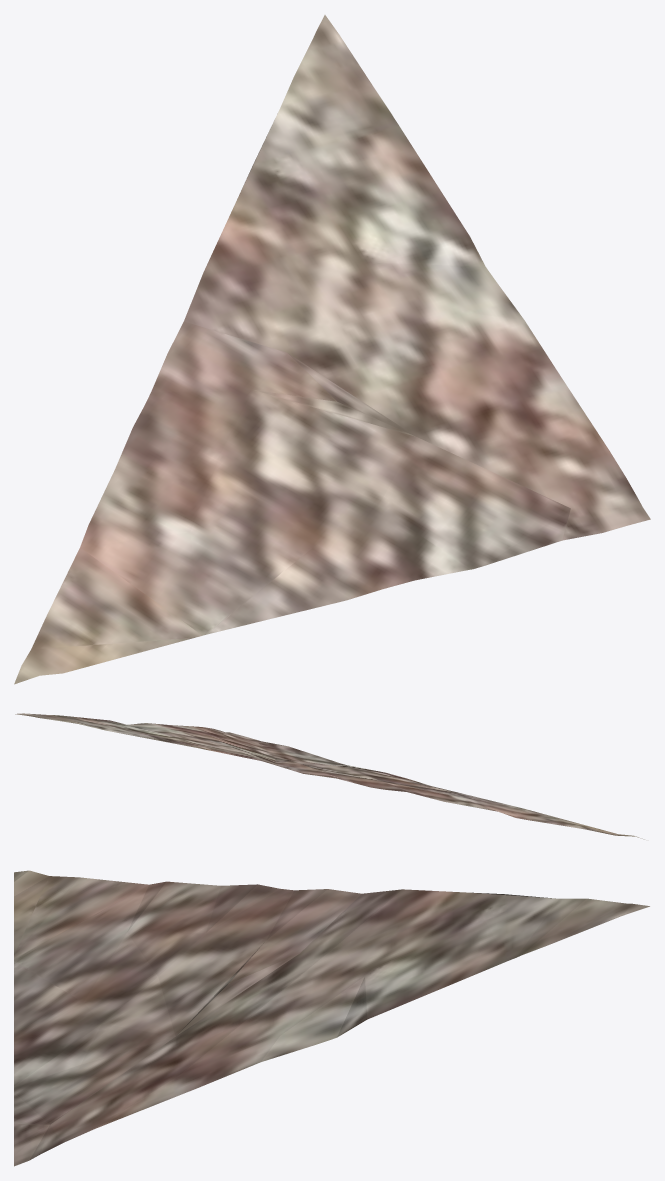
3 views of the same model, one above another, from view 1: azimuth 30°, elevation 25°; view 2: azimuth 150°, elevation 25°; view 3: azimuth 270°, elevation 25° (orthographic). The views are drawn at different scales.
Bounding box in the file's own units: 2.43 × 1.01 × 2.16.
1 material, 1 textured.
